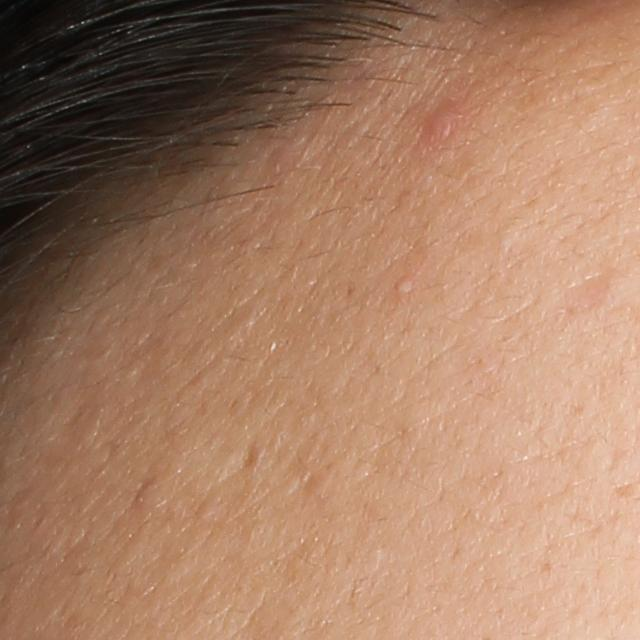atrophic_scar: (556, 262, 625, 316)
papule: (423, 102, 459, 144), (393, 273, 415, 297)
